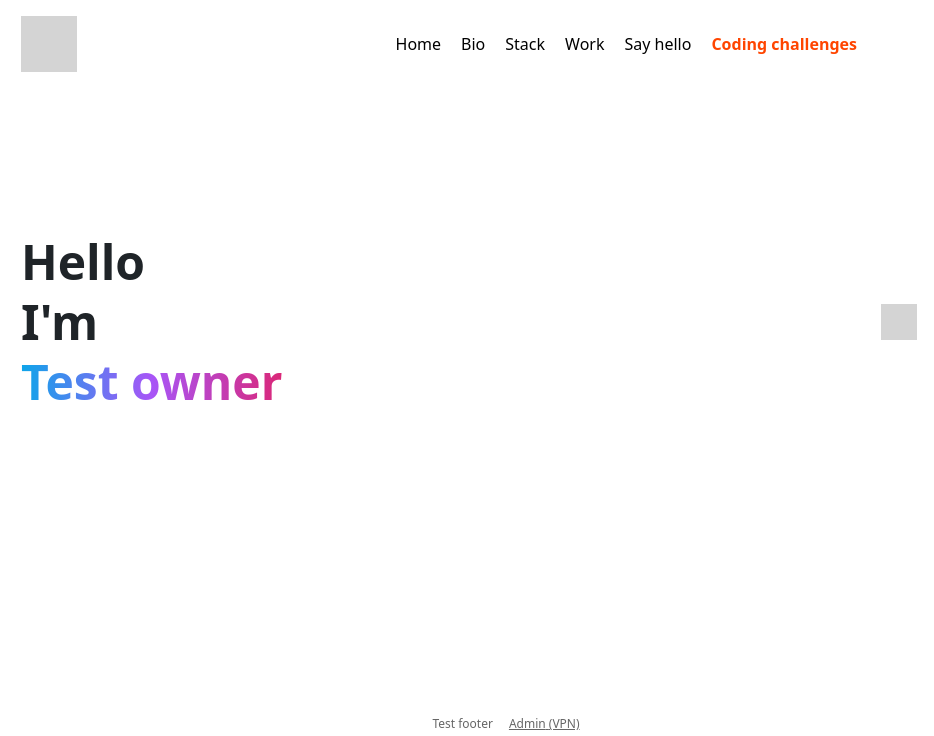
Test: existing pages render API content and navigation retains the admin entry
Expected: the heading "Test owner" is shown, [21,352,282,412]
Step 1. Click the link "Bio" → [473, 44], box [461,33,485,55]
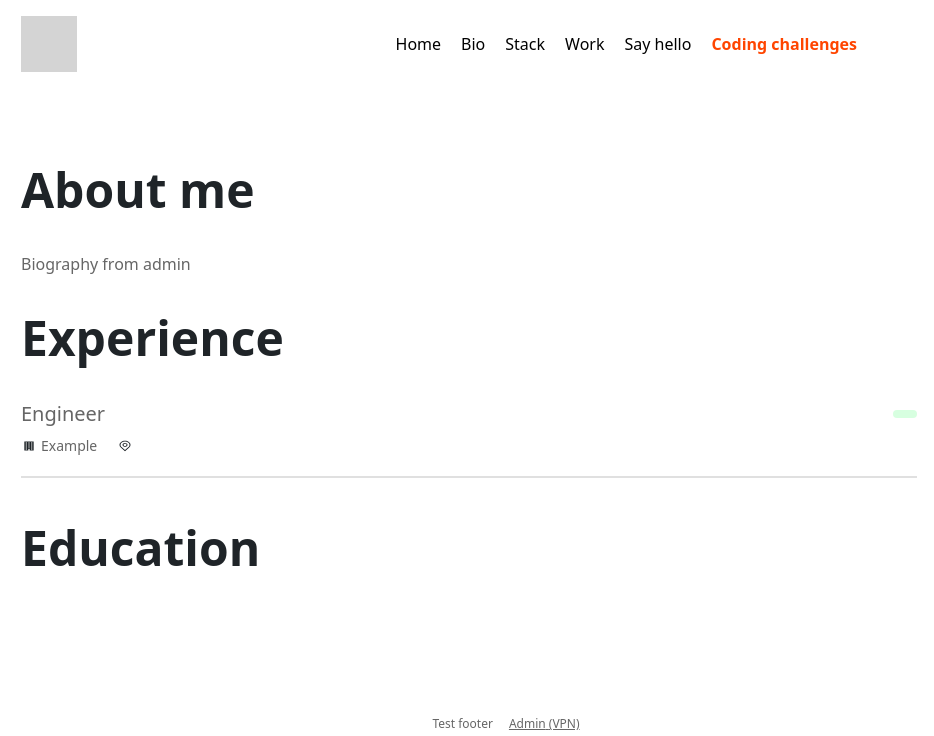
Now the heading "About me" is shown, box [21,157,255,222]
Now the text "Biography from admin" is shown, box [21,253,191,275]
Now the heading "Engineer" is shown, box [21,400,105,428]
Step 2. Click the link "Work" → [585, 44], box [565,33,604,55]
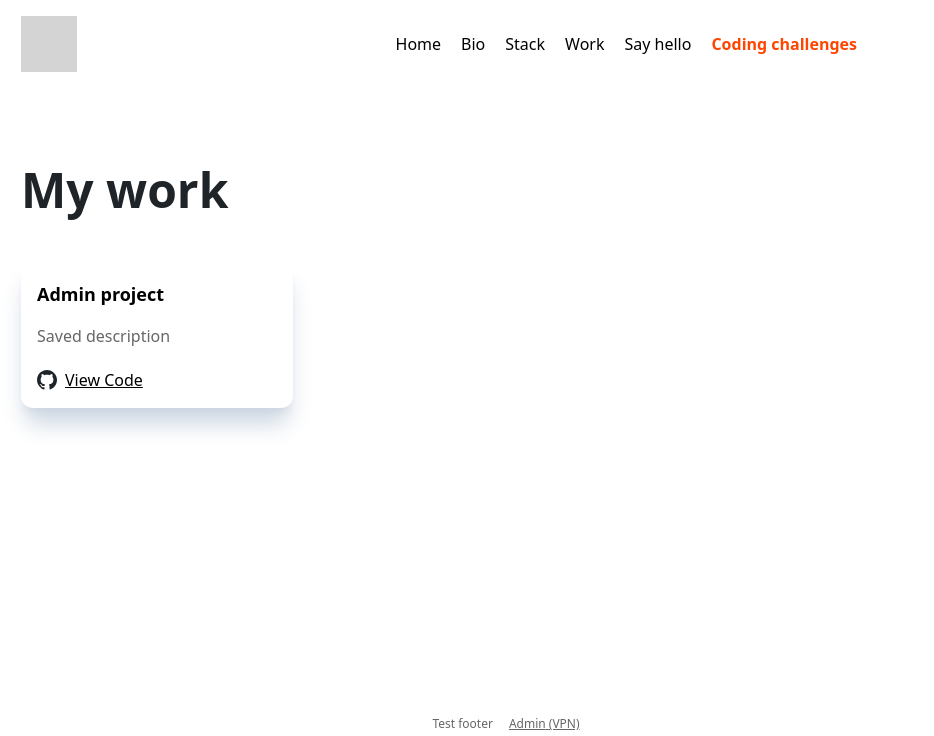
Now the heading "My work" is shown, box [21,157,228,222]
Now the heading "Admin project" is shown, box [37,282,164,306]
Step 3. Click the link "Stack" → [525, 44], box [505,33,545,55]
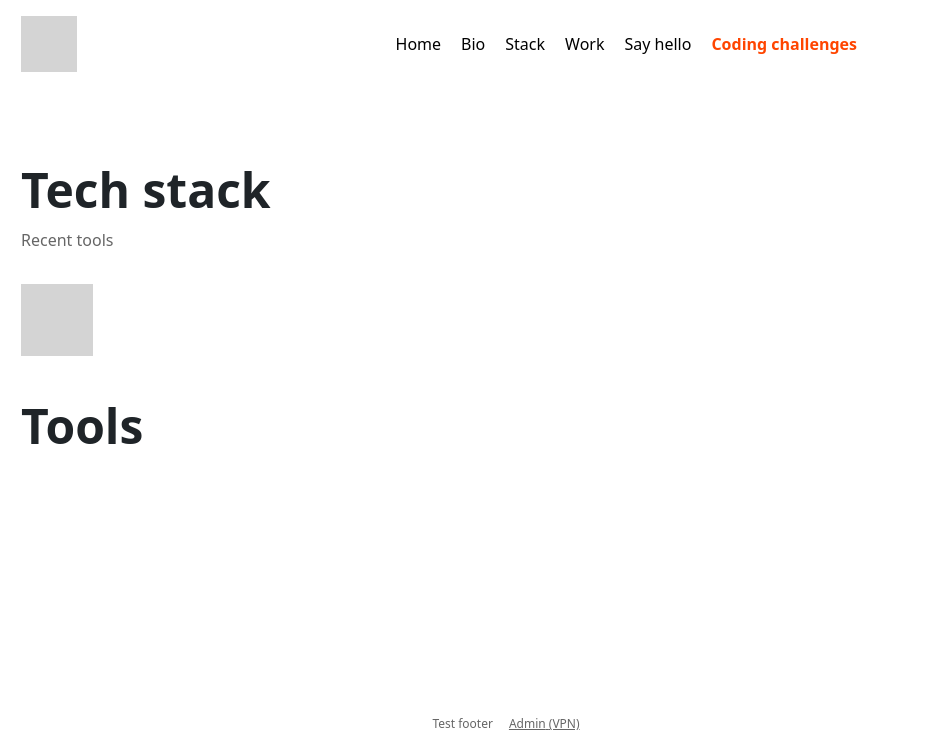
Step 4. Click the link "Say hello" → [658, 44], box [624,33,691,55]
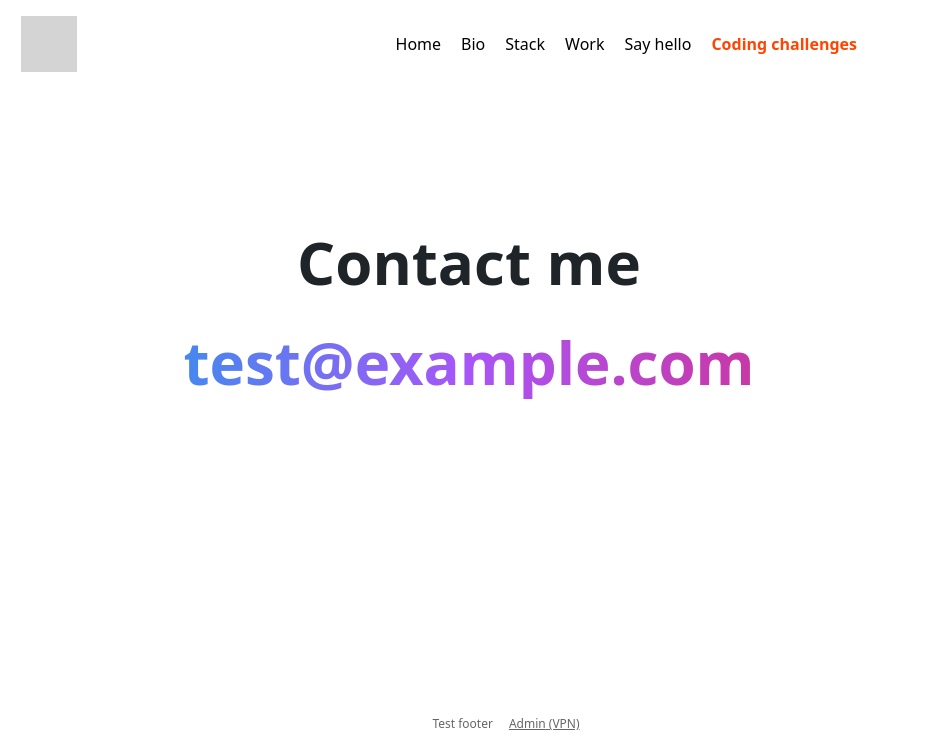
Now the heading "Contact me" is shown, box [297,221,641,303]
Now the heading "test@example.com" is shown, box [21,292,917,416]
